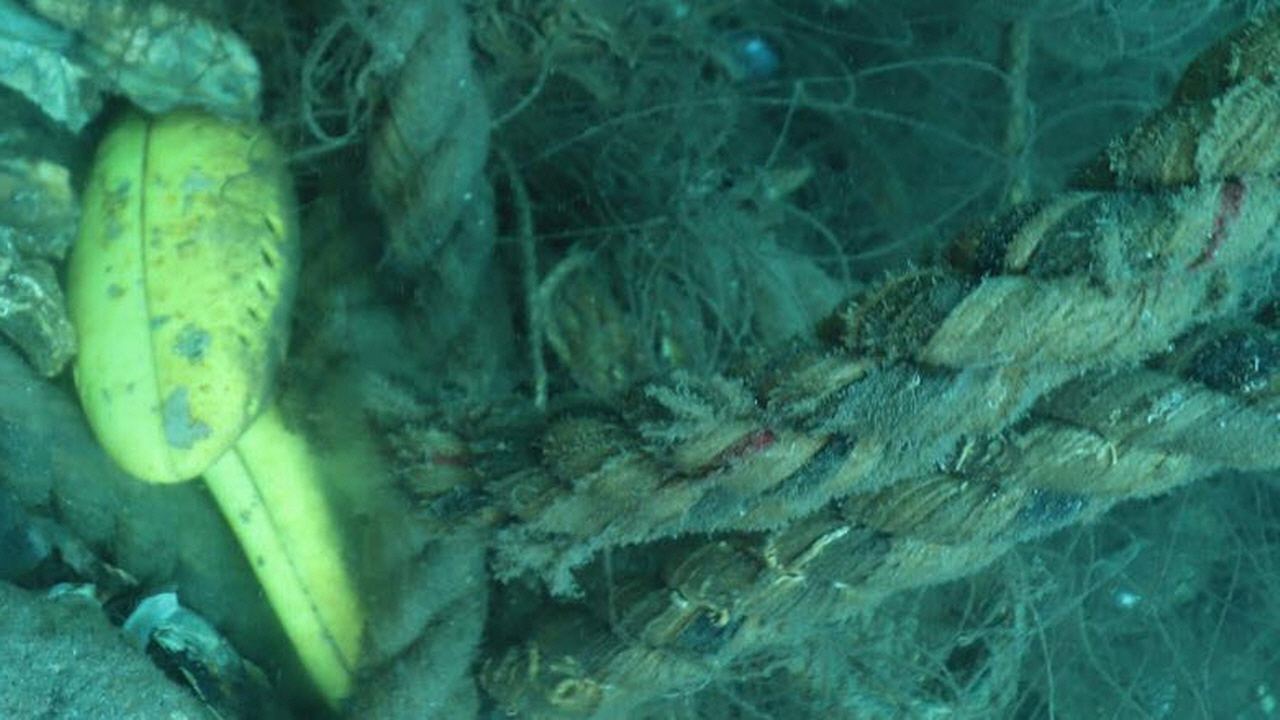bundle of ropes: (304, 0, 1280, 720)
